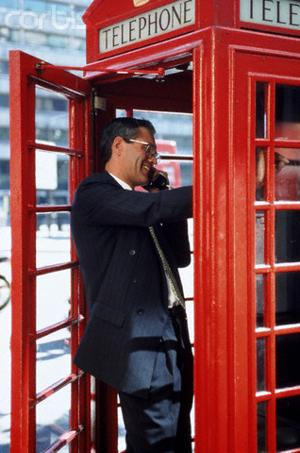person: (72, 112, 199, 453)
